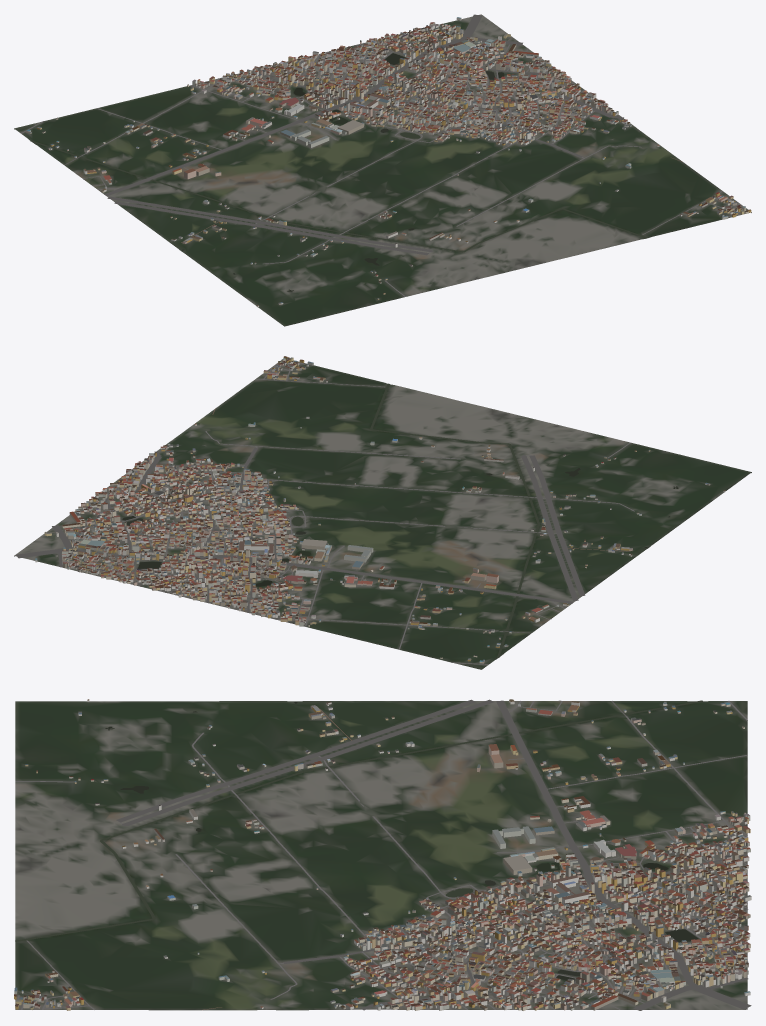
3 renders of one model, top to bottom at view 1: azimuth 30°, elevation 25°; view 2: azimuth 150°, elevation 25°; view 3: azimuth 270°, elevation 25°, orthographic. The views are drawn at different scales.
Visible parts, largest first — view 1: ground, buildings, roads, water; view 2: ground, buildings, roads, water; view 3: ground, buildings, roads, water.
Boxes of the visible parts, x1,y1,x2,y2 form: ground: (14,14,751,326); buildings: (25,17,751,307); roads: (21,14,745,296); water: (30,53,647,291); ground: (14,359,751,669); buildings: (35,356,725,663); roads: (16,361,634,664); water: (122,383,678,657); ground: (15,701,747,1010); buildings: (14,699,751,1010); roads: (15,699,751,1010); water: (15,700,702,980).
Size of the model in its own units: 1412 by 29.29 by 1413.
